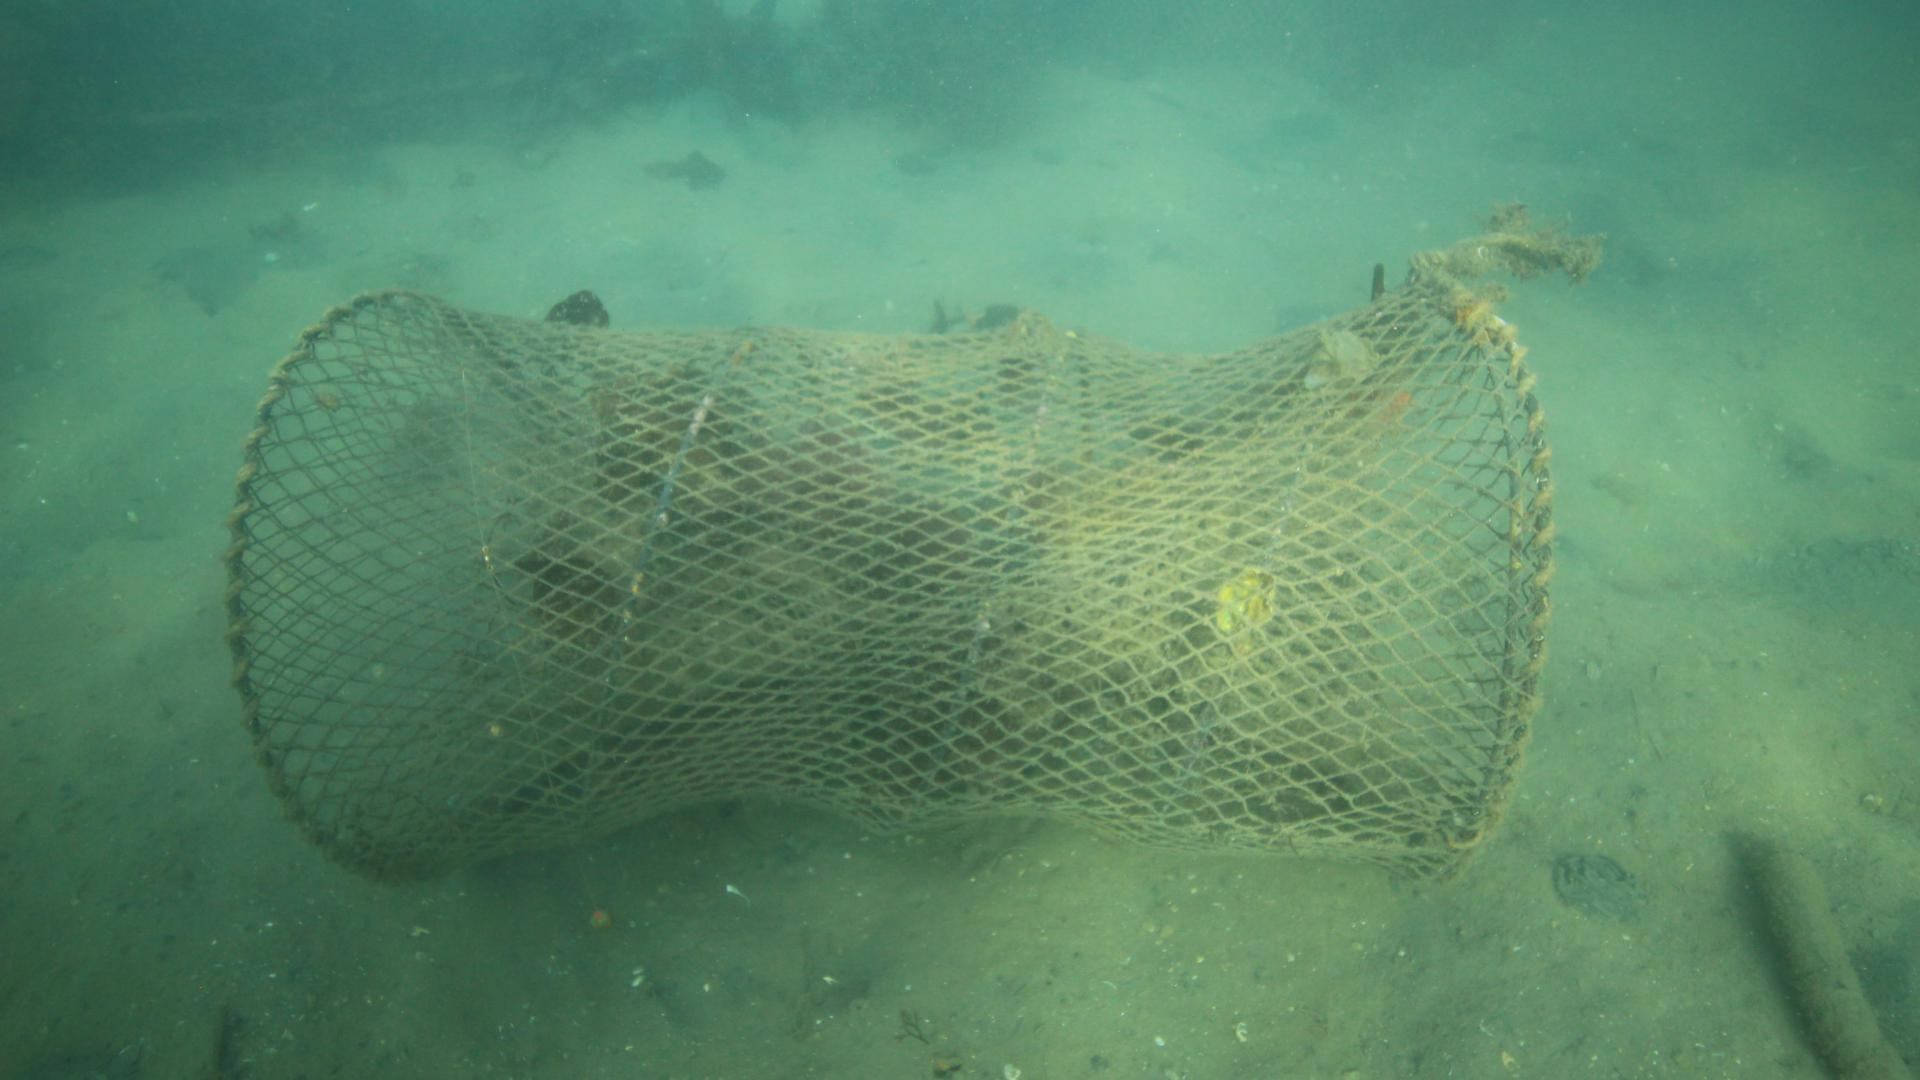spring fish trap: (222, 262, 1555, 884)
